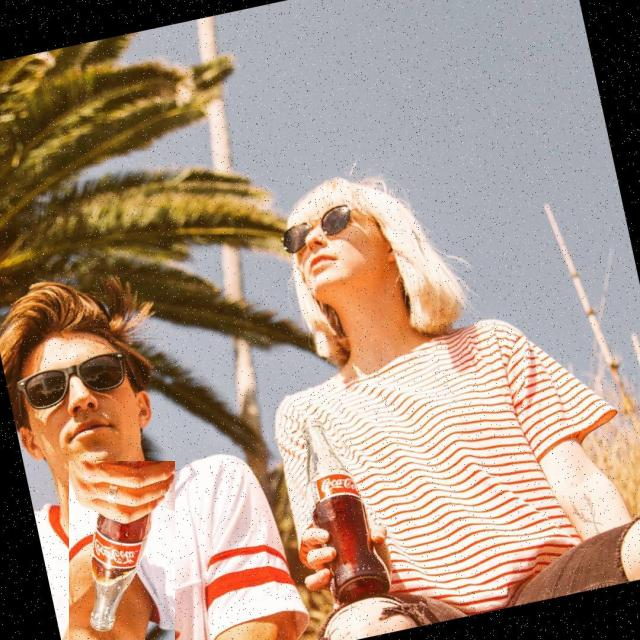coca-cola: (288, 412, 396, 610), (69, 461, 175, 640)
